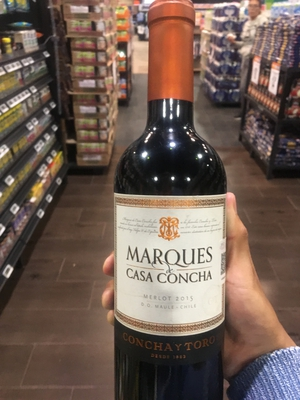marques de casa concha merlot: (113, 8, 227, 400)
